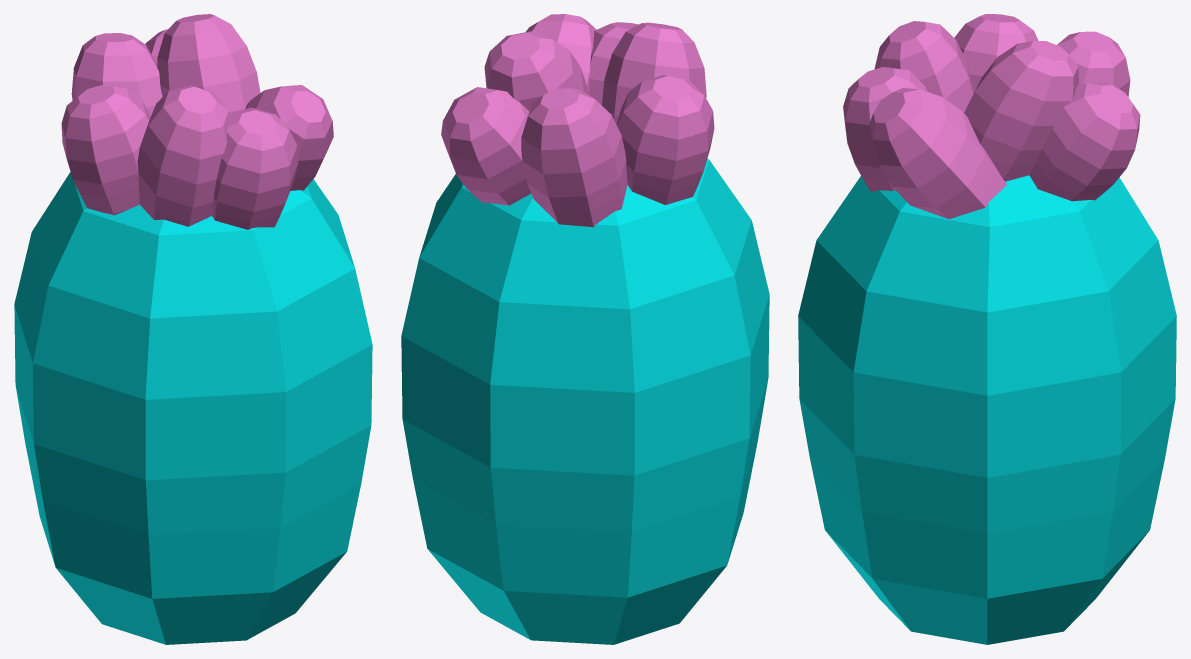
The model's file is coral1.fbx.
The picture shows the model from 3 angles, left to right: view 1: azimuth 30°, elevation 25°; view 2: azimuth 150°, elevation 25°; view 3: azimuth 270°, elevation 25°; orthographic projection. The views are drawn at different scales.
Visible parts, largest first — view 1: coral1; view 2: coral1; view 3: coral1.
Part boxes in pixels (x1=…): coral1: x1=14, y1=14, x2=372, y2=644; coral1: x1=401, y1=14, x2=769, y2=644; coral1: x1=798, y1=14, x2=1176, y2=644.
Bounding box in the file's own units: 60.65 × 101 × 60.65.
